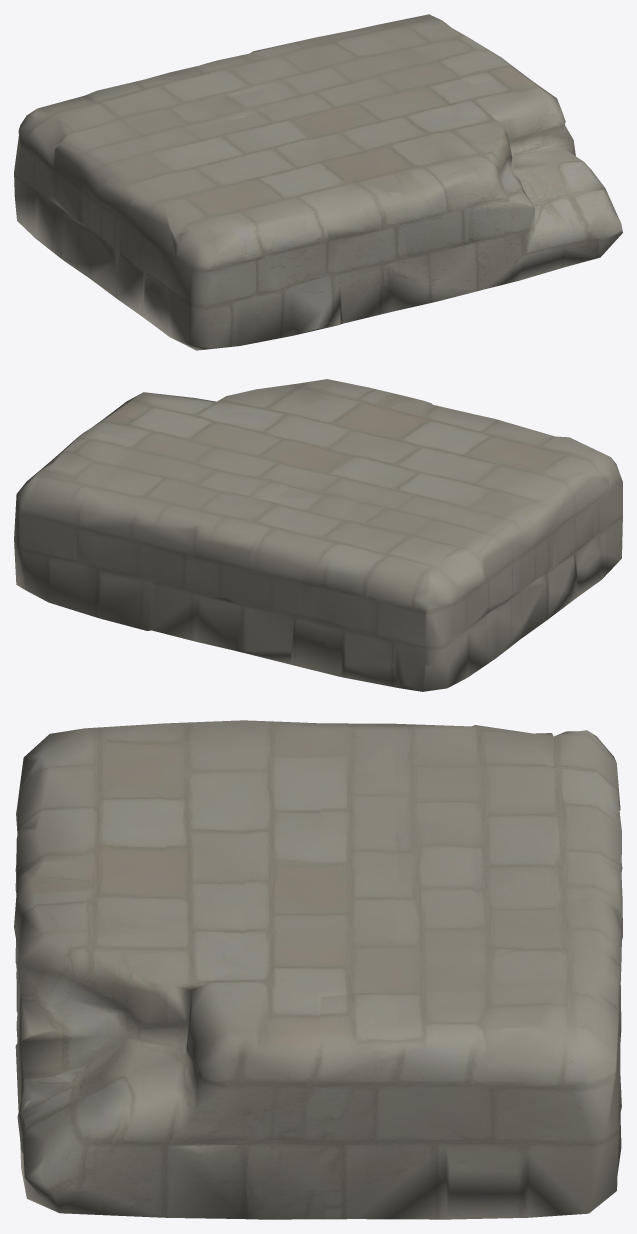
File: road-slab-a.glb
3 renders of one model, top to bottom at view 1: azimuth 30°, elevation 25°; view 2: azimuth 150°, elevation 25°; view 3: azimuth 270°, elevation 25°, orthographic. The views are drawn at different scales.
Visible parts, largest first — view 1: tripo_node_148bc141-0257-4d95-a5ea-2d05ffca9abb; view 2: tripo_node_148bc141-0257-4d95-a5ea-2d05ffca9abb; view 3: tripo_node_148bc141-0257-4d95-a5ea-2d05ffca9abb.
Boxes of the visible parts, left/top/right/bottom form: tripo_node_148bc141-0257-4d95-a5ea-2d05ffca9abb: left=14, top=14, right=622, bottom=350; tripo_node_148bc141-0257-4d95-a5ea-2d05ffca9abb: left=14, top=379, right=622, bottom=691; tripo_node_148bc141-0257-4d95-a5ea-2d05ffca9abb: left=14, top=720, right=622, bottom=1219.
Bounding box in the file's own units: 1 × 0.2611 × 0.7737.
1 material, 1 textured.
